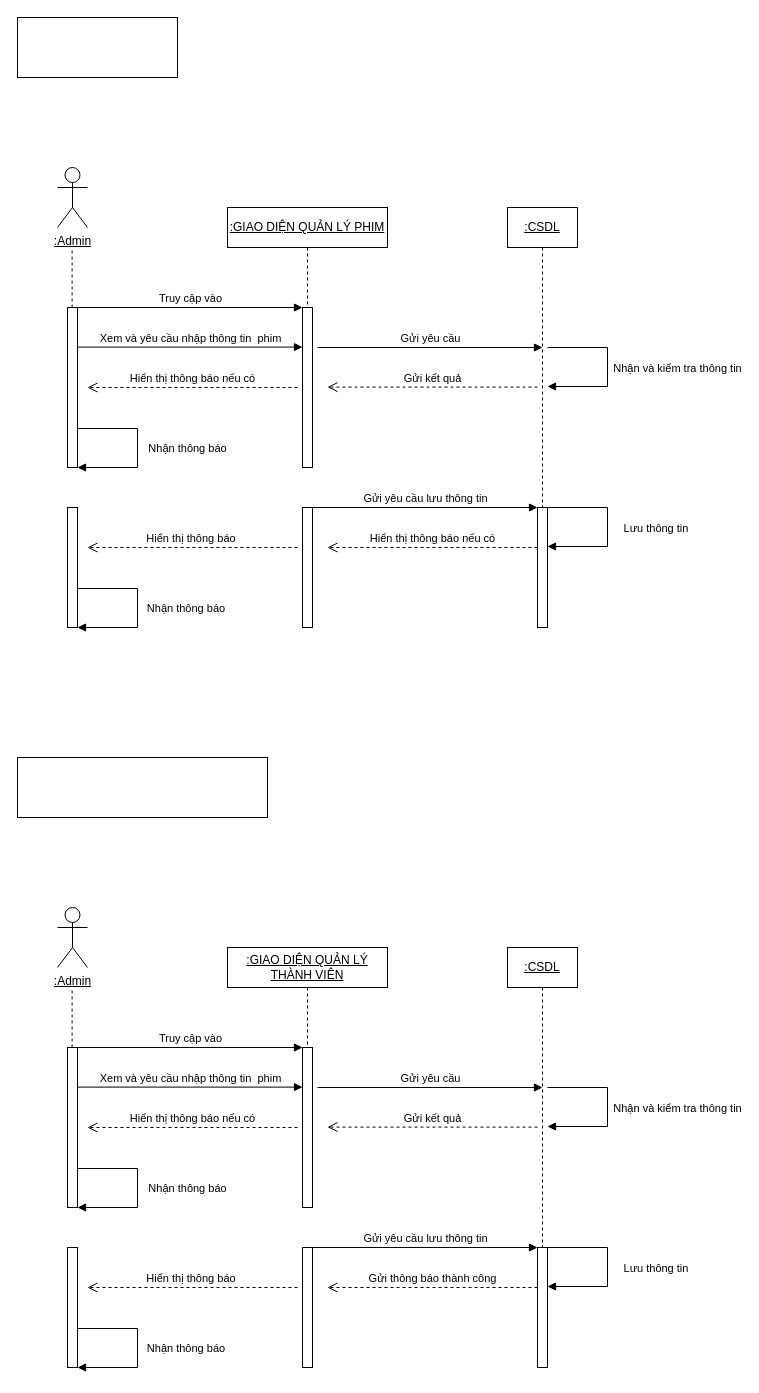
This 759x1393 diagram has some shape labels left out. Each missing label, with the centre of its shape:
QUẢN LÝ PHIM: point (97, 47)
QUẢN LÝ THÀNH VIÊN: point (142, 787)
